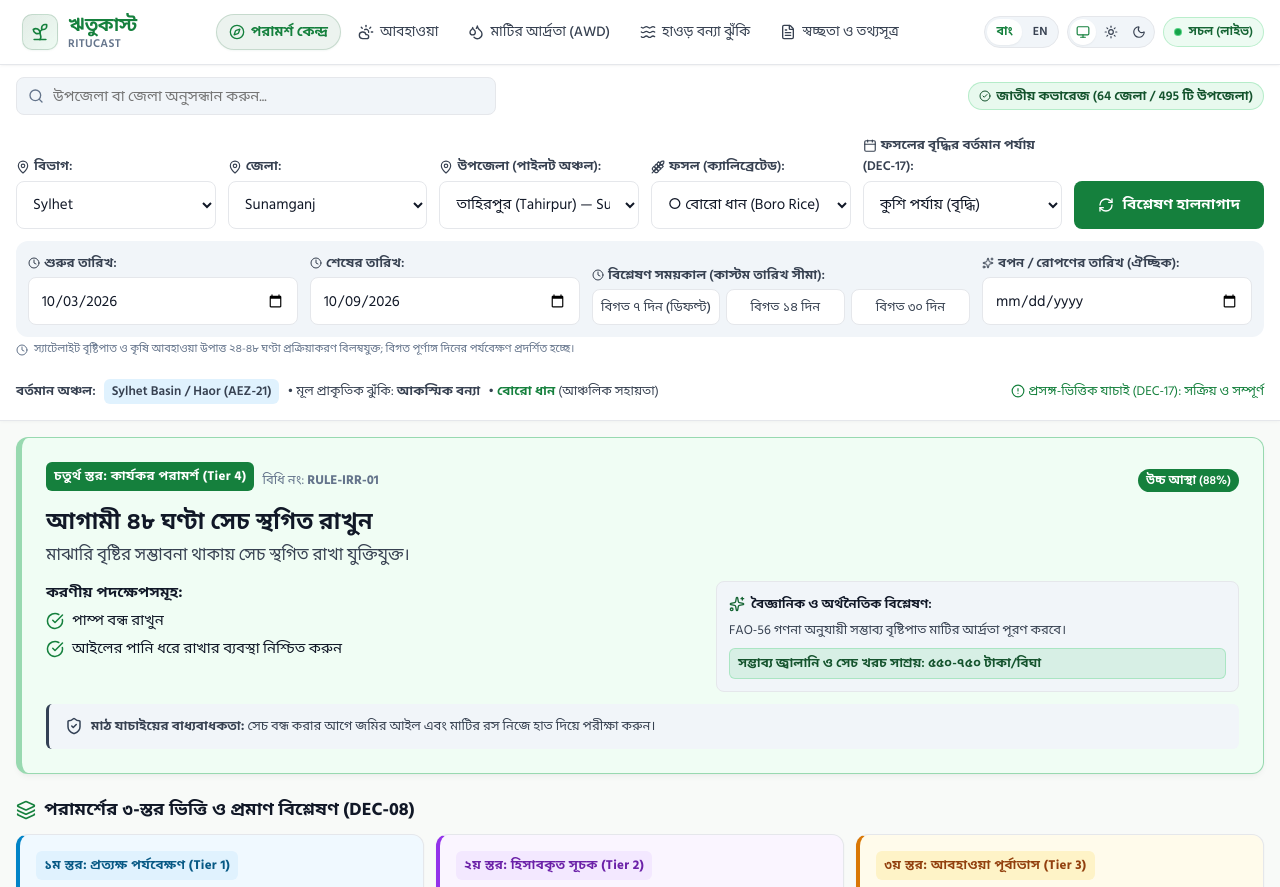
Phase 16: User Acceptance, Usability, and Field Readiness Test Suite › Journey C: displays Tier 1 sensor readings and Tier 3 rainfall forecast in Weather tab
The image size is (1280, 887).
Expected: the heading "আগামী ৪৮ ঘণ্টা সেচ স্থগিত রাখুন" is shown, [46,503,373,541]
Click the button "আবহাওয়া" at (398, 32), box [345,14,451,50]
(page scrolled)
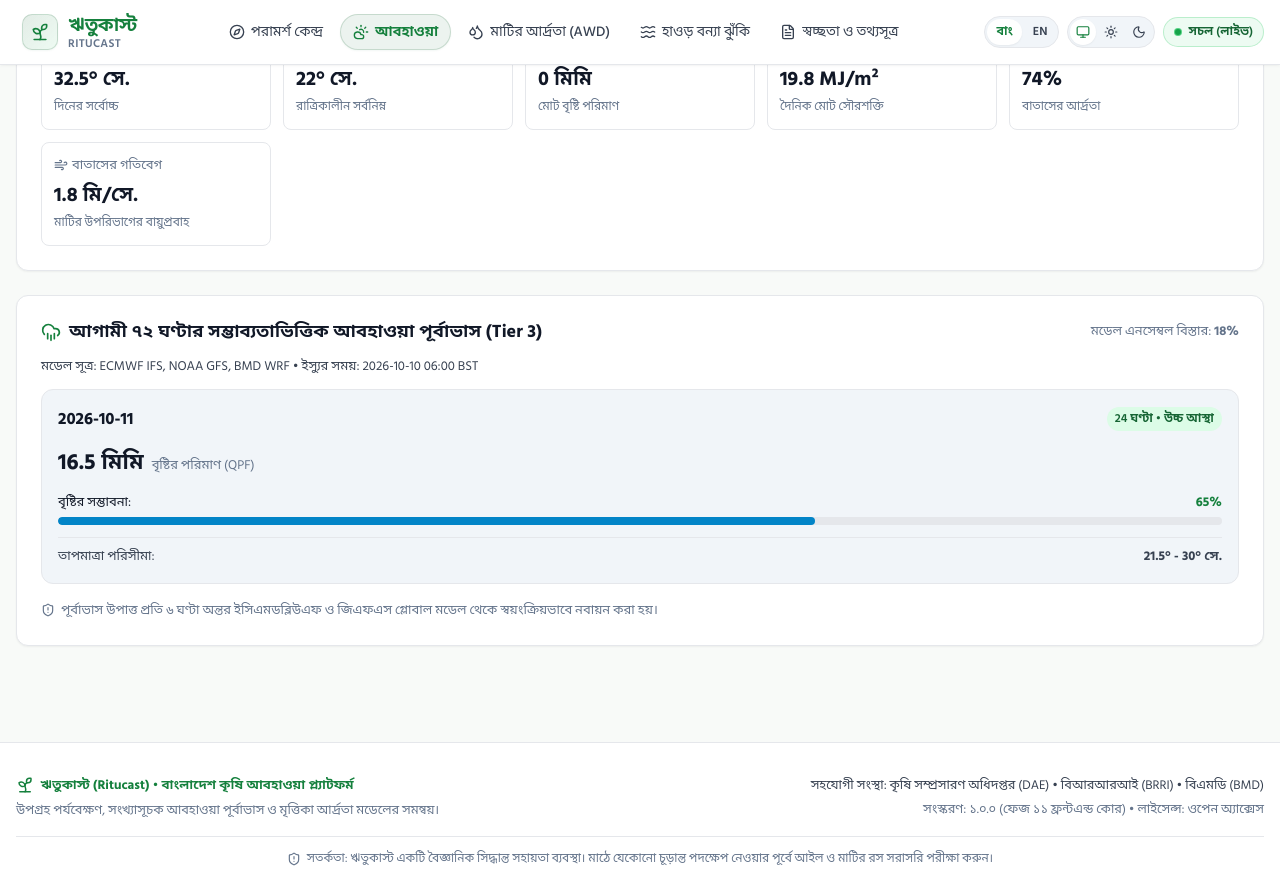
Expected: the text "32.5° সে." is shown, [54,63,130,95]
Expected: the text "19.8 MJ/m²" is shown, [780,63,879,95]
Expected: the text "আগামী ৭২ ঘণ্টার সম্ভাব্যতাভিত্তিক আবহাওয়া পূর্বাভাস" is shown, [69,316,542,346]
